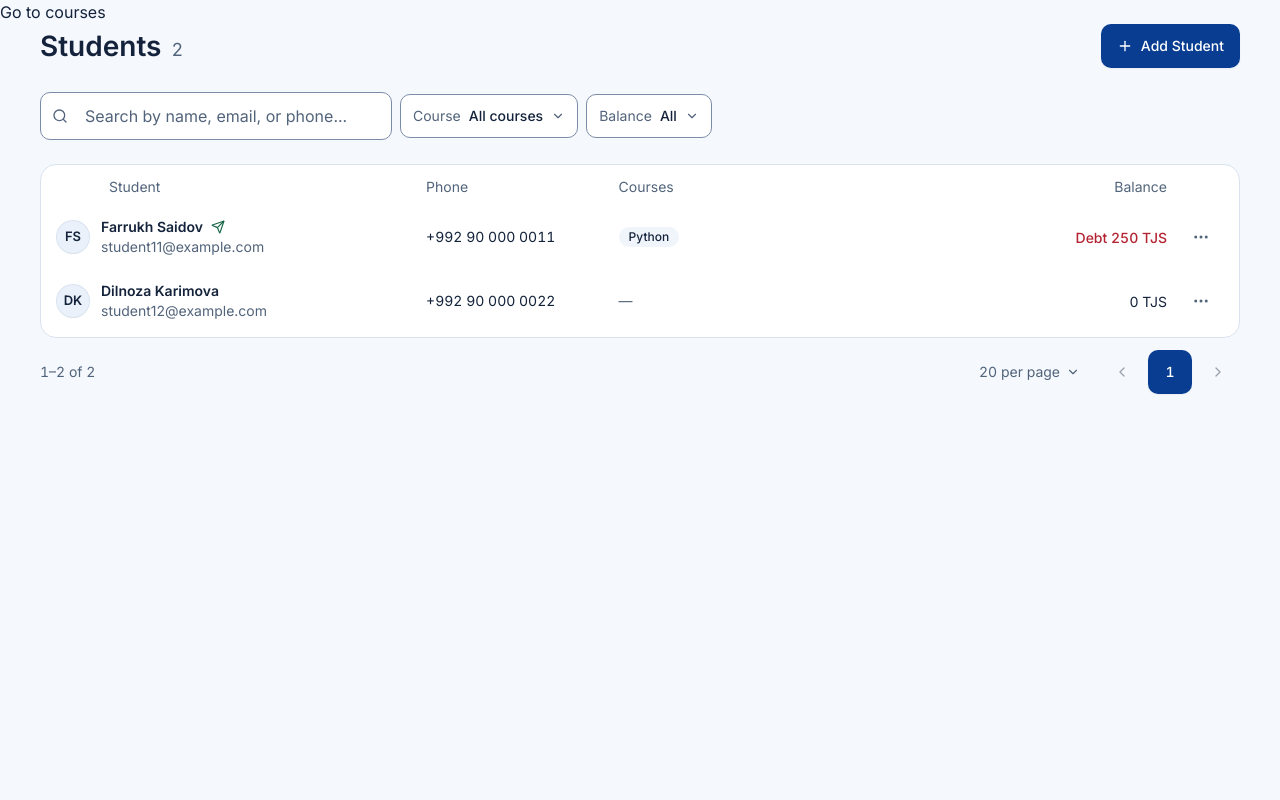
Scenario: Students page › reports failure truthfully when enrollments were withdrawn but deleting user account failed
Click the button named "Student actions: Farrukh Saidov" at (1201, 237), box [1179,215,1223,259]
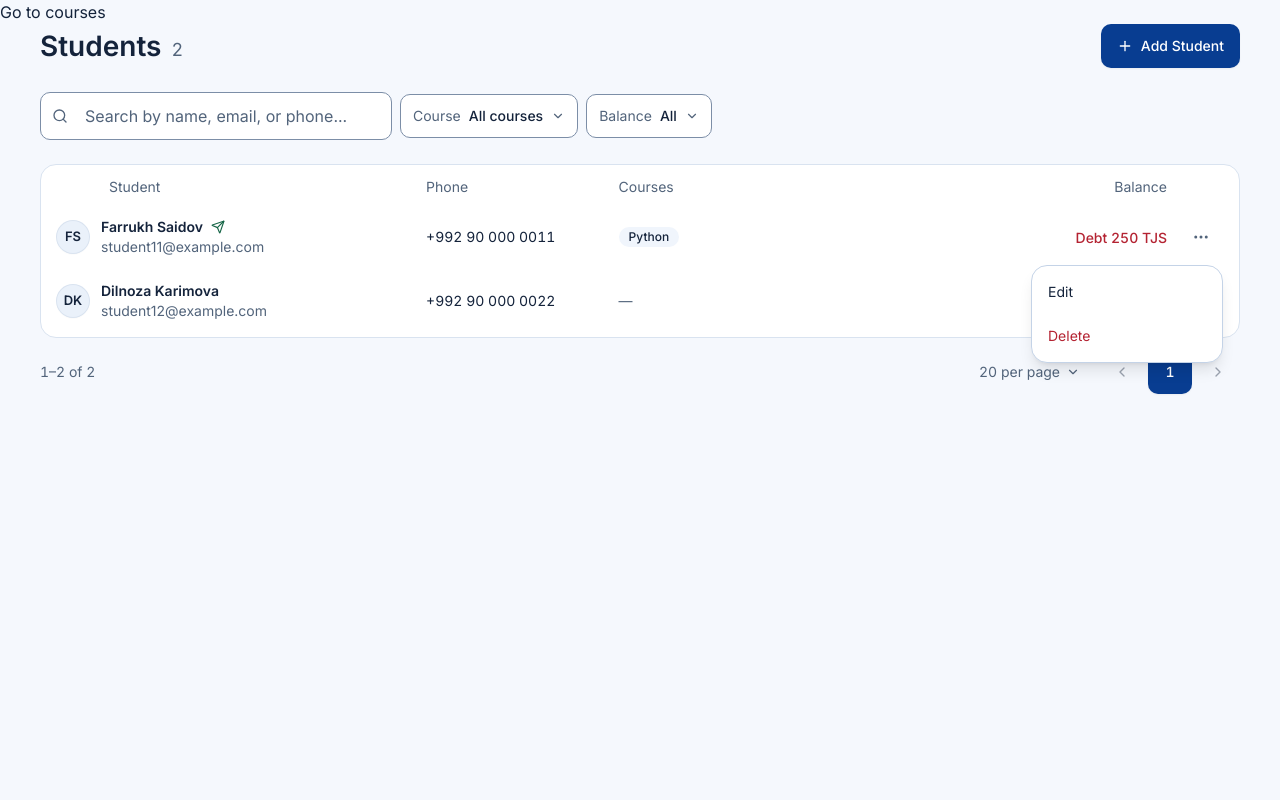
Click the menu item "Delete" at (1069, 336), box [1048,327,1090,344]
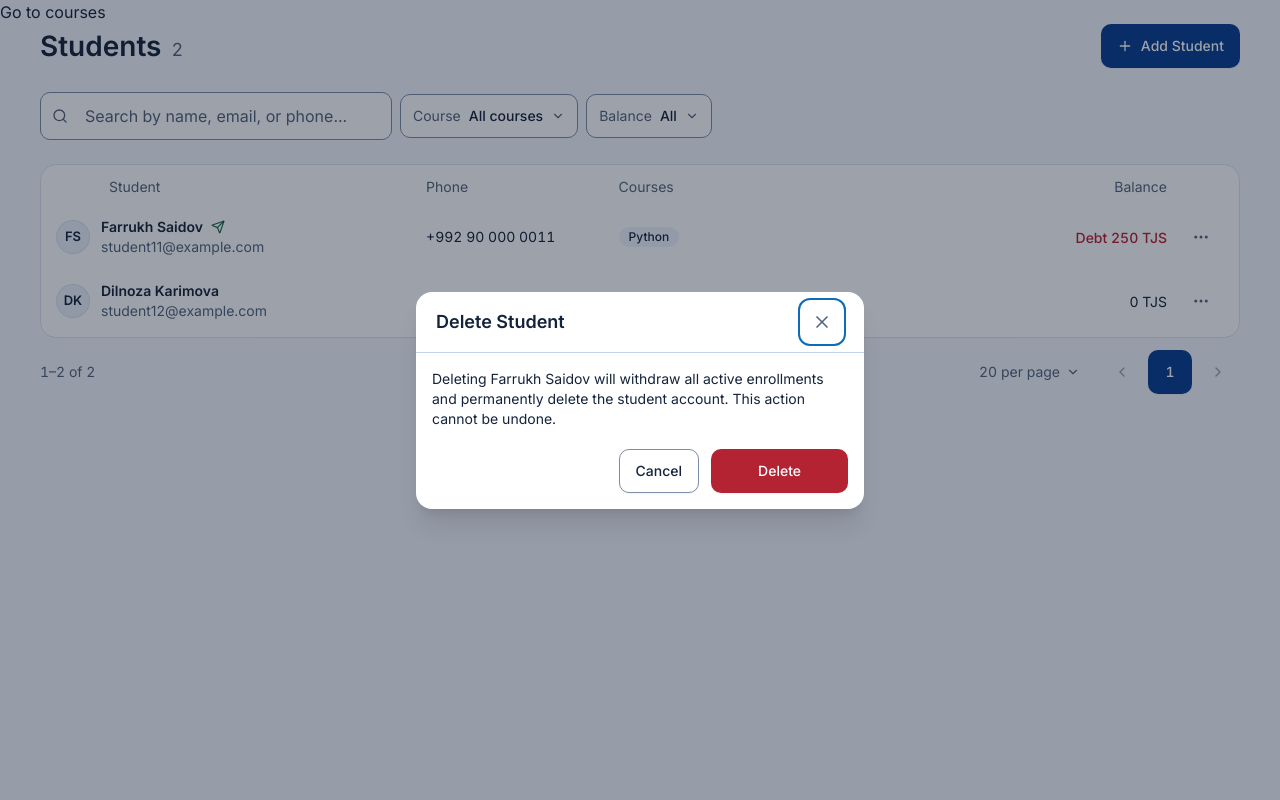
Click the button "Delete" at (780, 470), box [711,448,848,492]
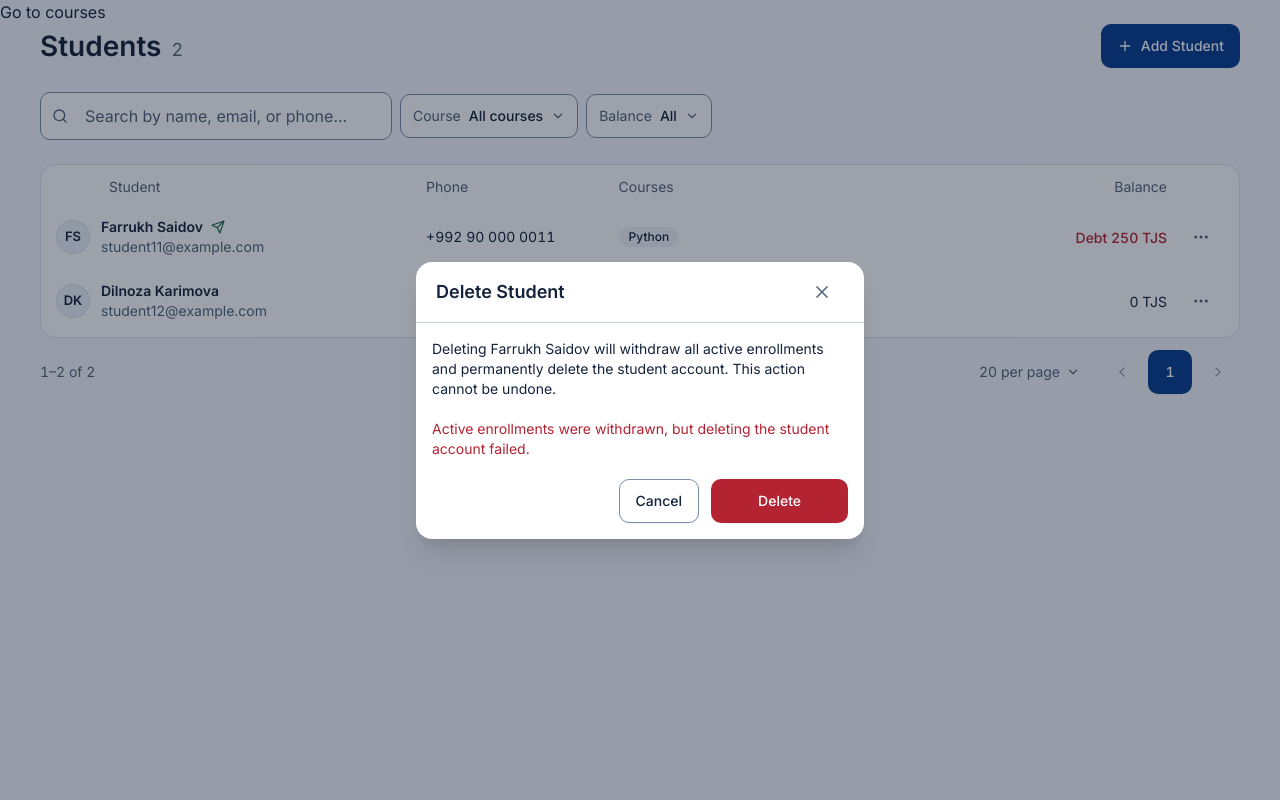
Now the text "Active enrollments were withdrawn, but deleting the student account failed." is shown, box [432,418,848,458]
